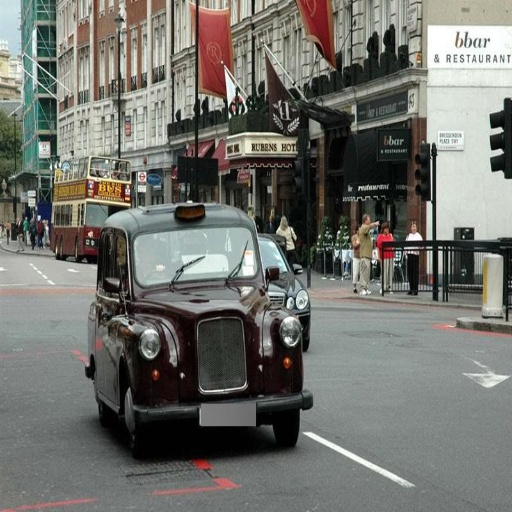back_bumper: (99, 315, 263, 421)
back_left_light: (98, 241, 126, 298)
trunk: (118, 214, 258, 322), (391, 350, 457, 407)
